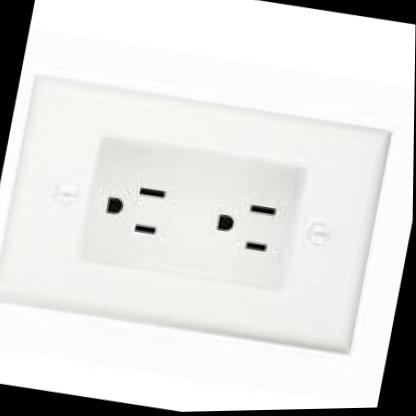OUTLET: (0, 66, 392, 363)
